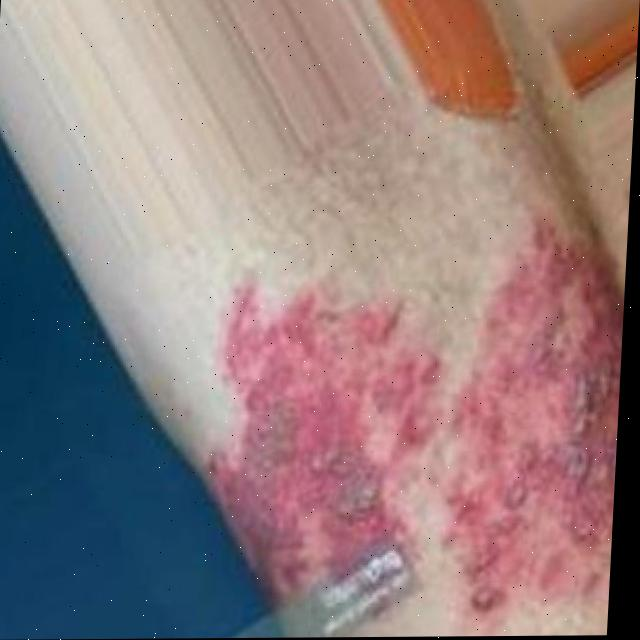Shingles: (186, 237, 627, 599)
